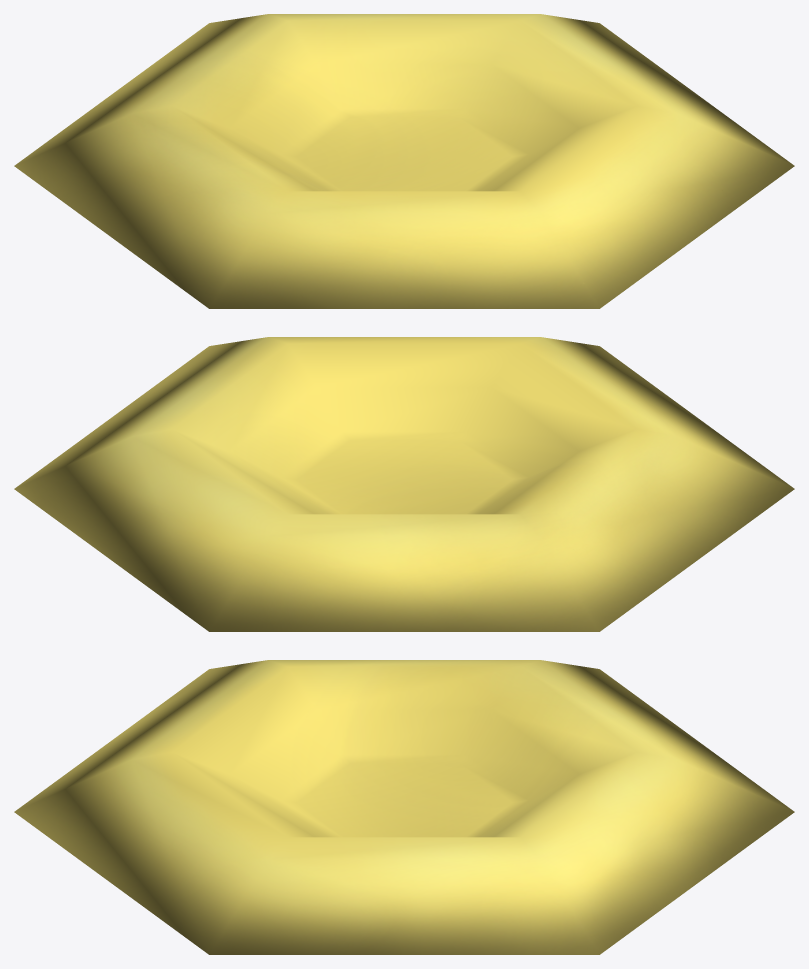
File: Resource_Beach.gltf
The picture shows the model from 3 angles, top to bottom: view 1: azimuth 30°, elevation 25°; view 2: azimuth 150°, elevation 25°; view 3: azimuth 270°, elevation 25°; orthographic projection.
Parts seen in each view (by area): view 1: Beach; view 2: Beach; view 3: Beach.
Boxes of the visible parts, left/top/right/bottom form: Beach: left=14, top=14, right=794, bottom=308; Beach: left=14, top=337, right=794, bottom=631; Beach: left=14, top=660, right=794, bottom=954.
Bounding box in the file's own units: 3 × 0.2927 × 3.46.
Materials: 1 (1 with a texture image).
